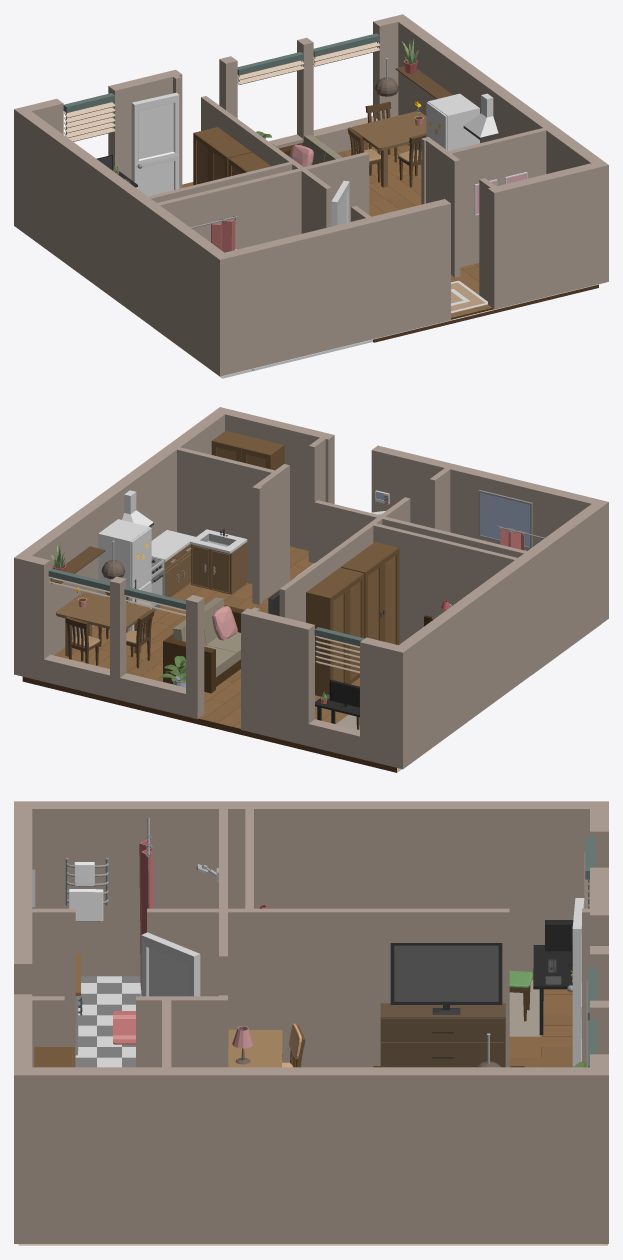
The model's file is flat_v03.glb.
3 views of the same model, one above another, from view 1: azimuth 30°, elevation 25°; view 2: azimuth 150°, elevation 25°; view 3: azimuth 270°, elevation 25° (orthographic). The views are drawn at different scales.
Parts seen in each view (by area): view 1: walls, Door_05, Refrigerator, RoomFurniture_08.001, KitchenTable_02, Curtains_11, Floor_02.005, Curtains_12, Curtains_12.001, Floor_02.001, RangeHood, Shower_01 (+9 smaller); view 2: walls, RoomFurniture_08.001, RoomFurniture_08, Sofa_01, KitchenTabletop1_02, Refrigerator, Floor_02.005, Floor_02.004, ShowerMirror_02, RoomFurniture_08.002, KitchenTabletop1_01, KitchenTable_02 (+15 smaller); view 3: walls, RoomFurniture_07, TV, Door_05.001, Floor_02.007, Floor_27.001, PC_Table.001, Door_05, PC_Table, Shower_01, Catpet_01, Towel_03 (+8 smaller).
Part boxes in pixels (box(x1,y1,x2,y2)): walls: box(14, 14, 608, 376); Door_05: box(131, 92, 179, 196); Refrigerator: box(426, 93, 479, 150); RoomFurniture_08.001: box(193, 127, 251, 185); KitchenTable_02: box(352, 111, 426, 187); Curtains_11: box(63, 93, 115, 141); Floor_02.005: box(337, 144, 421, 202); Curtains_12: box(237, 52, 304, 84); Curtains_12.001: box(313, 33, 379, 66); Floor_02.001: box(451, 263, 598, 313); RangeHood: box(463, 93, 498, 139); Shower_01: box(190, 215, 237, 252); walls: box(14, 407, 608, 769); RoomFurniture_08.001: box(306, 567, 364, 696); RoomFurniture_08: box(341, 542, 399, 645); Sofa_01: box(163, 597, 244, 693); KitchenTabletop1_02: box(190, 528, 247, 594); Refrigerator: box(98, 519, 151, 631); Floor_02.005: box(22, 627, 162, 706); Floor_02.004: box(127, 669, 247, 736); ShowerMirror_02: box(478, 490, 532, 549); RoomFurniture_08.002: box(211, 431, 284, 470); KitchenTabletop1_01: box(151, 530, 195, 597); KitchenTable_02: box(56, 592, 150, 656); walls: box(14, 801, 608, 1243); RoomFurniture_07: box(380, 1003, 505, 1067); TV: box(390, 943, 502, 1014); Door_05.001: box(141, 932, 200, 996); Floor_02.007: box(509, 994, 572, 1067); Floor_27.001: box(75, 994, 121, 1067); PC_Table.001: box(228, 1029, 282, 1067); Door_05: box(567, 898, 584, 1066); PC_Table: box(533, 945, 572, 1035); Shower_01: box(139, 817, 153, 995); Catpet_01: box(509, 980, 542, 1036); Towel_03: box(69, 889, 103, 921).
Bounding box in the file's own units: 14.57 × 4.38 × 13.37.
4 materials, 2 textured.
